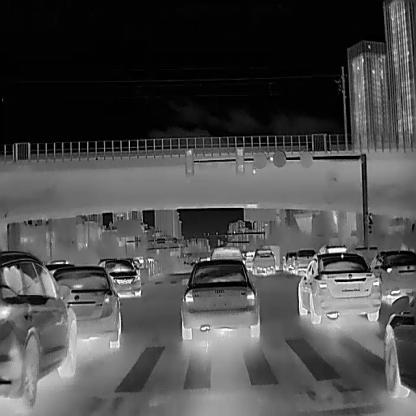car: (0, 250, 77, 409), (181, 258, 259, 339), (51, 265, 121, 348), (298, 253, 380, 323), (384, 294, 416, 396), (370, 249, 416, 307), (102, 258, 140, 296), (251, 247, 275, 274), (292, 248, 315, 273), (209, 247, 242, 258), (316, 243, 348, 254), (282, 251, 296, 272)
truck: (260, 244, 279, 270)
